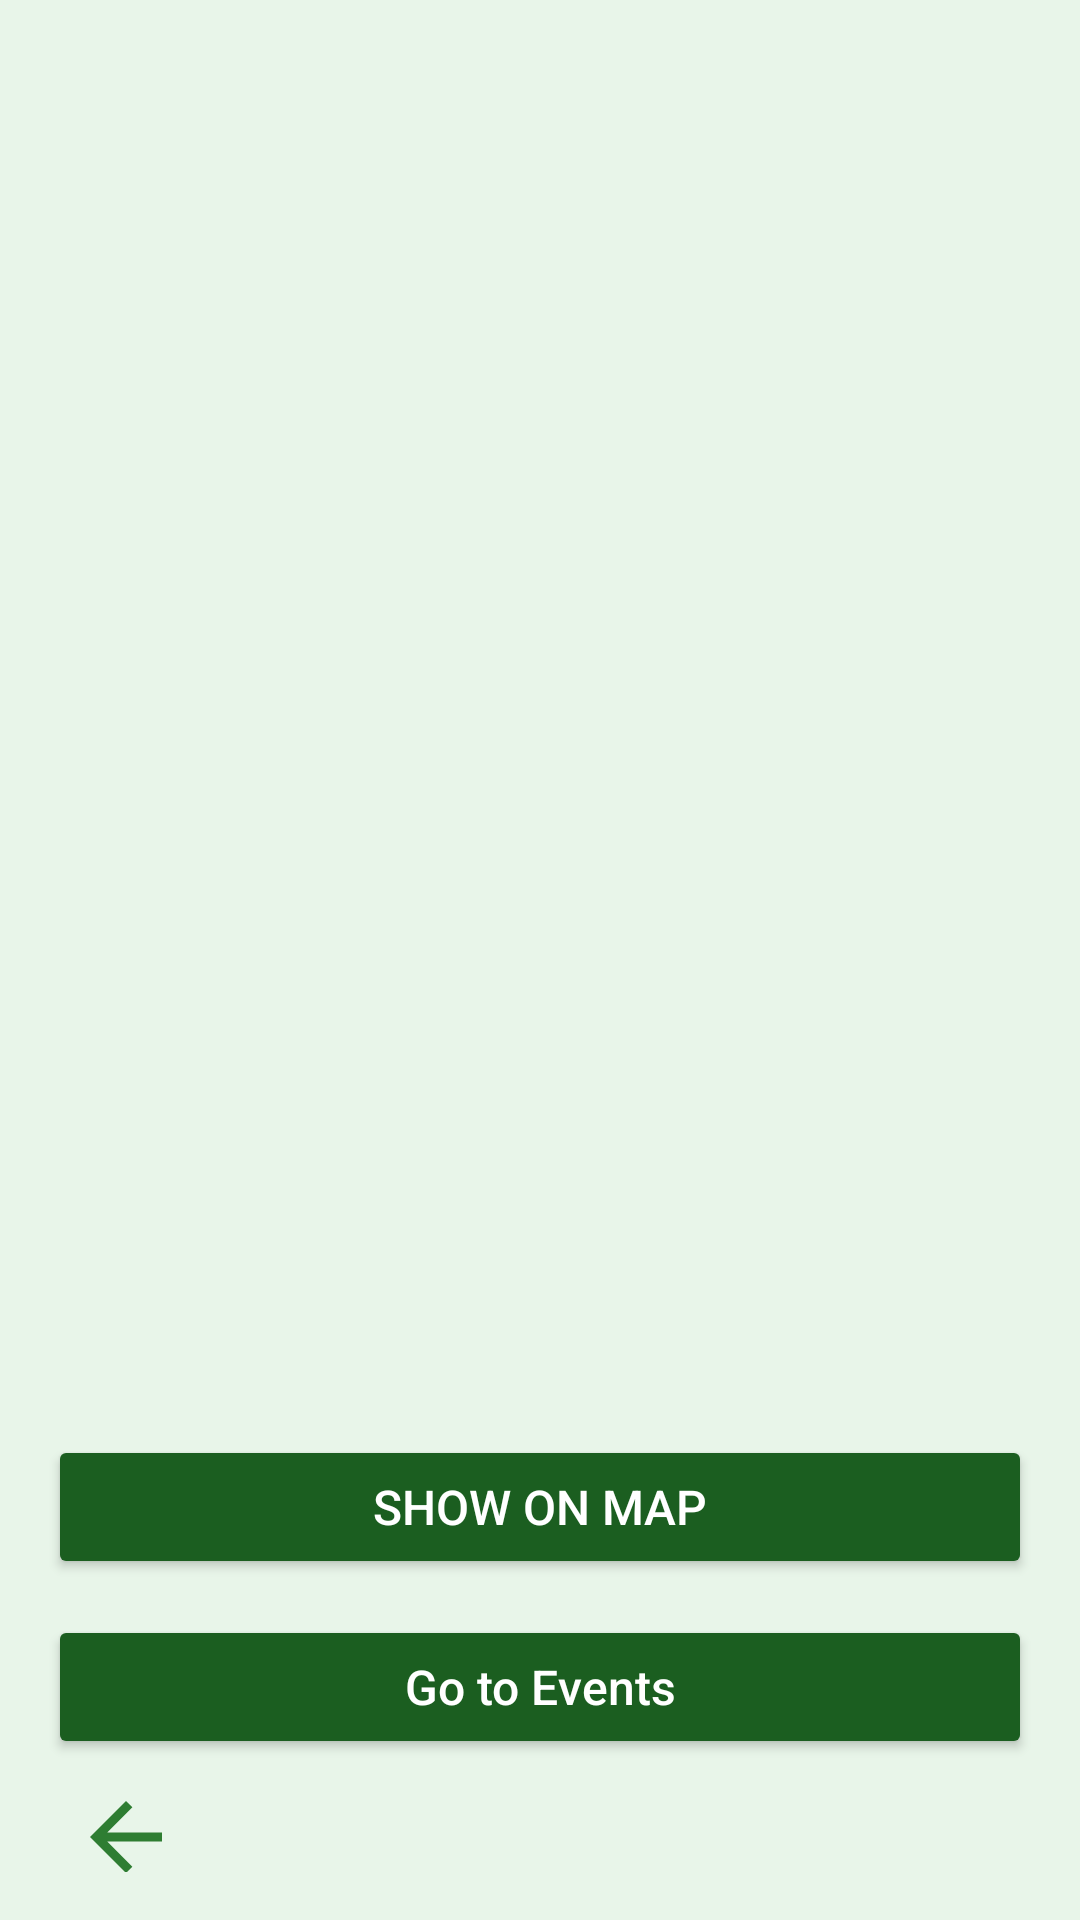

Where icons sit on this 1080w x 1920h app screen, as (x1, y1, x2, y2):
Back: (90, 1801, 162, 1872)
